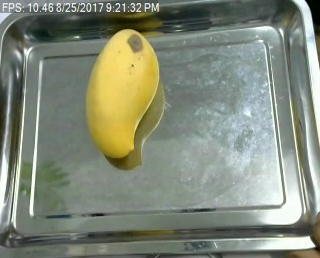Mango: (86, 29, 158, 160)
